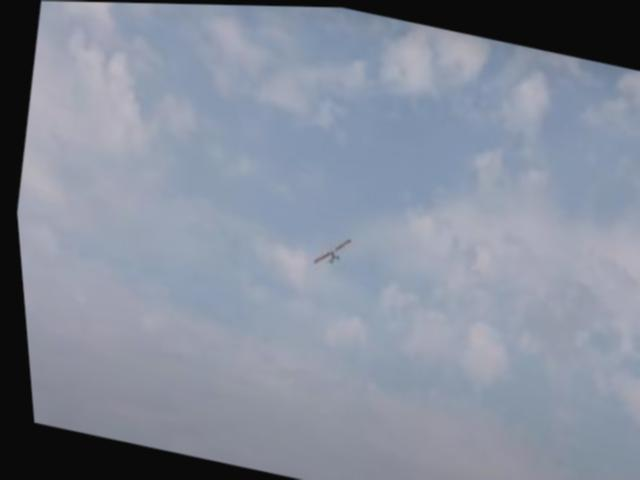uav: (299, 219, 354, 279)
